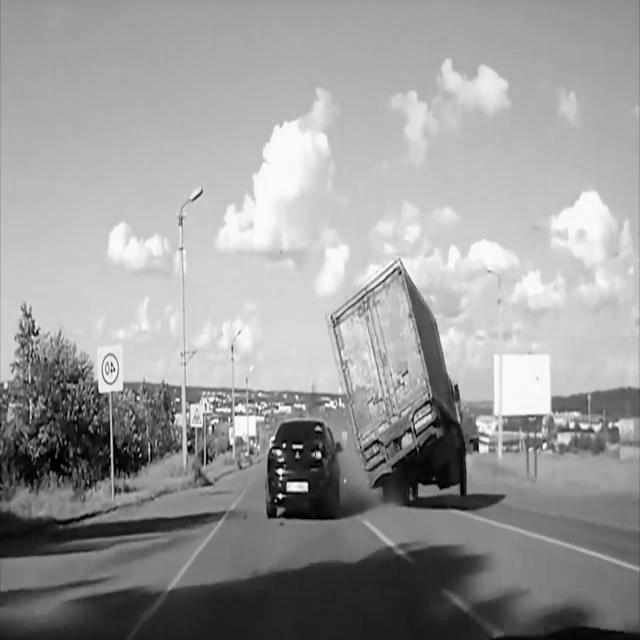accident: (262, 258, 472, 522)
